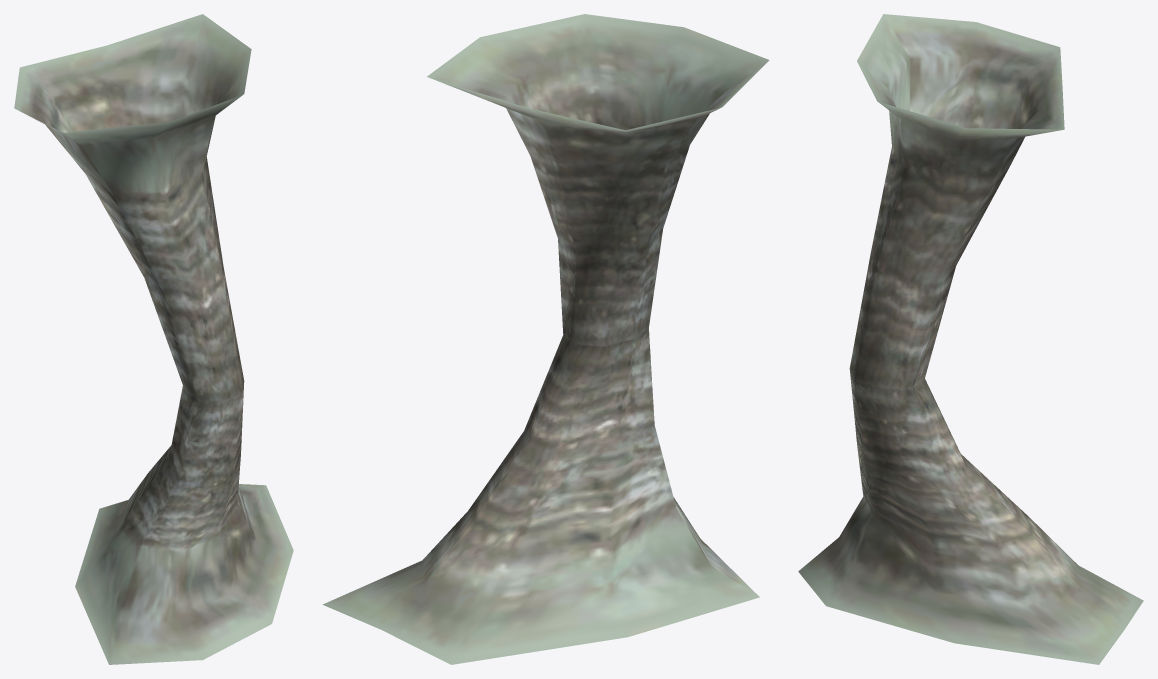
File: TROLLHOLE02_PS-SECRETSTALAG22.fbx
The picture shows the model from 3 angles, left to right: view 1: azimuth 30°, elevation 25°; view 2: azimuth 150°, elevation 25°; view 3: azimuth 270°, elevation 25°; orthographic projection. The views are drawn at different scales.
Visible parts, largest first — view 1: TROLLHOLE02_PS-SECRETSTALAG22; view 2: TROLLHOLE02_PS-SECRETSTALAG22; view 3: TROLLHOLE02_PS-SECRETSTALAG22.
Boxes of the visible parts, x1,y1,x2,y2 form: TROLLHOLE02_PS-SECRETSTALAG22: (14,14,293,664); TROLLHOLE02_PS-SECRETSTALAG22: (322,14,769,664); TROLLHOLE02_PS-SECRETSTALAG22: (798,14,1143,664).
Size of the model in its own units: 41166 by 65792 by 39801.
Materials: 1 (1 with a texture image).
